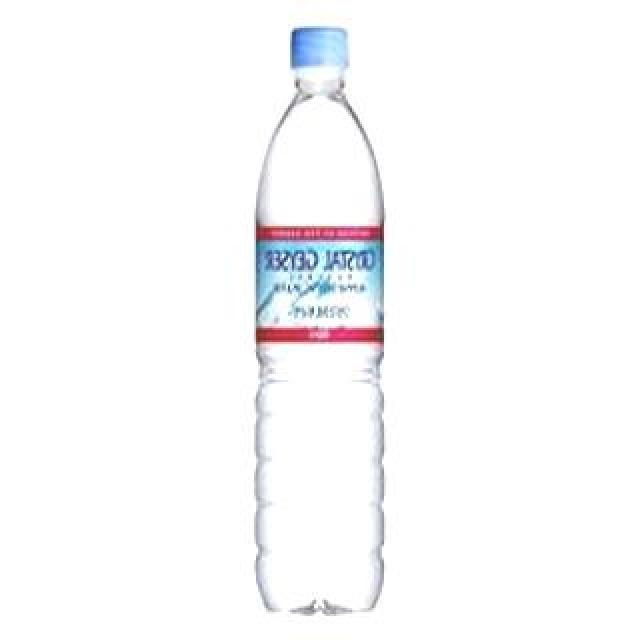Pet_Bottle: (246, 24, 394, 622)
